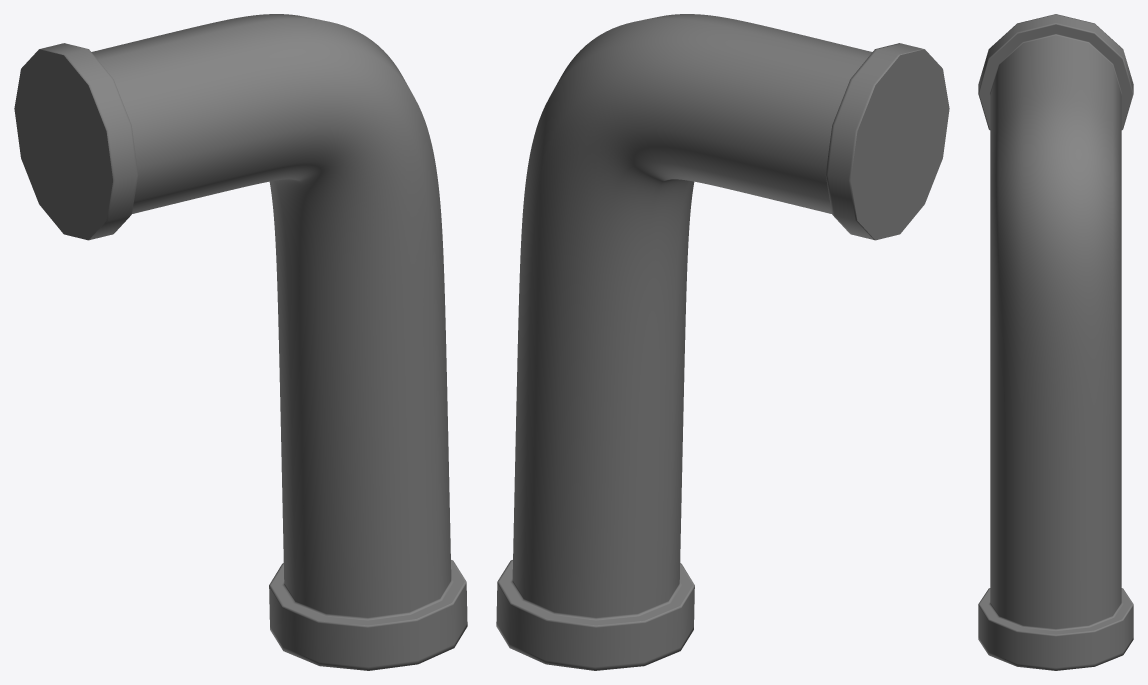
The model's file is Pipe_01.fbx.
The picture shows the model from 3 angles, left to right: view 1: azimuth 30°, elevation 25°; view 2: azimuth 150°, elevation 25°; view 3: azimuth 270°, elevation 25°; orthographic projection. The views are drawn at different scales.
Visible parts, largest first — view 1: Pipe_01; view 2: Pipe_01; view 3: Pipe_01.
Part boxes in pixels (x1,y1,x2,y2): Pipe_01: (14,14,467,670); Pipe_01: (496,14,949,670); Pipe_01: (978,14,1133,670).
Size of the model in its own units: 53.95 by 85.71 by 23.64.
